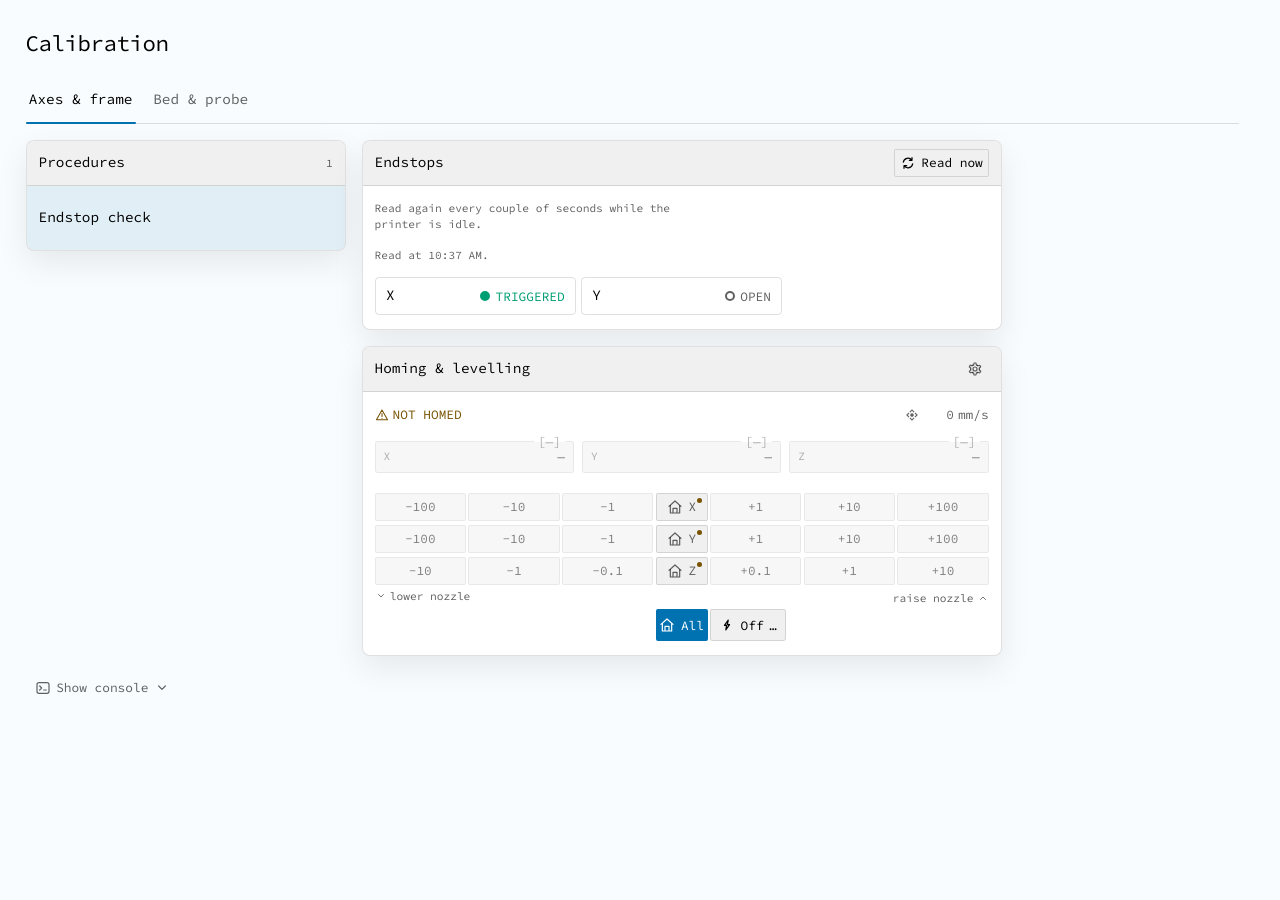
Calibration view › hosts the bed mesh module itself rather than a second renderer
The image size is (1280, 900).
Click the button with class "tab-select" showing "Bed & probe" at (201, 100), box [150,78,251,123]
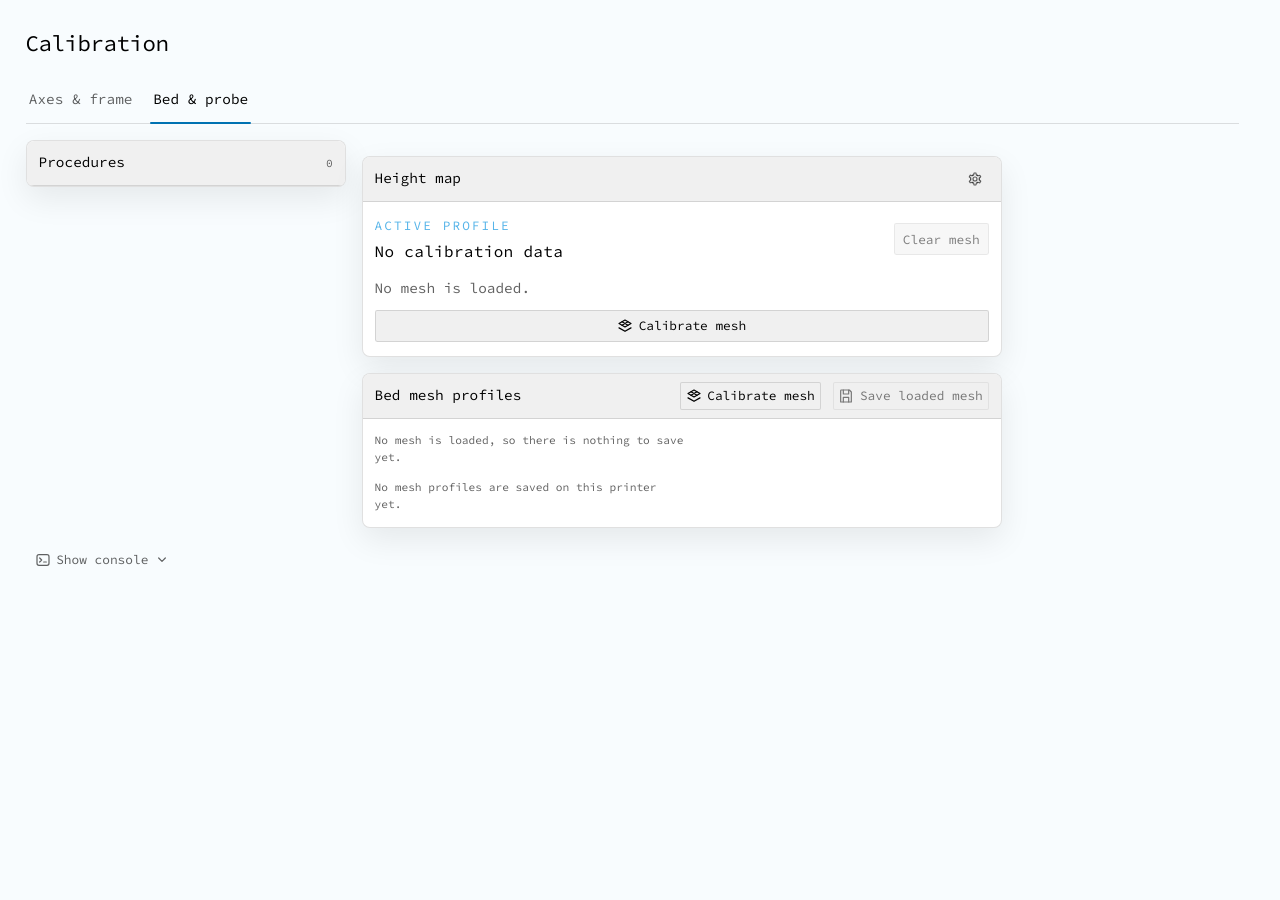
Expected: the element that starts with "Active profile" is shown, [375,216,989,342]
Result: the element with class "calibration-stage__map" is shown at [362,156,1002,357]
